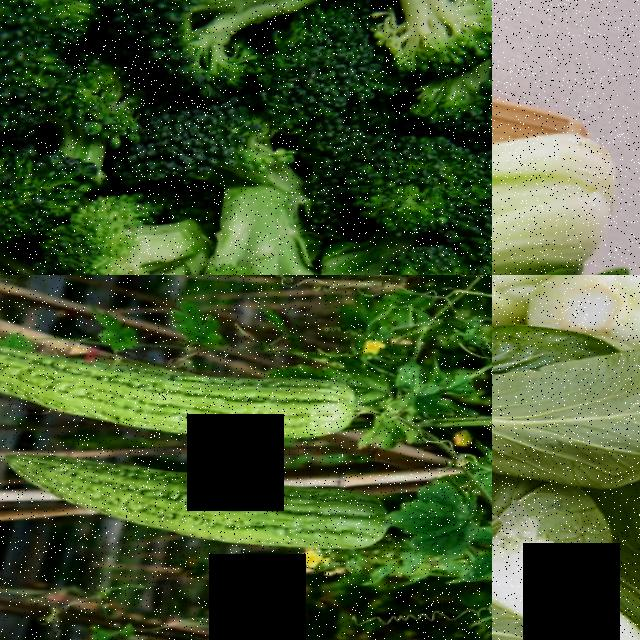bitter gourd: (0, 333, 365, 461), (0, 455, 405, 559)
bok choy: (492, 70, 640, 275), (492, 308, 640, 436), (492, 474, 625, 602), (545, 275, 640, 336)
broccoli: (173, 178, 366, 275), (45, 193, 202, 275), (363, 0, 492, 83)
